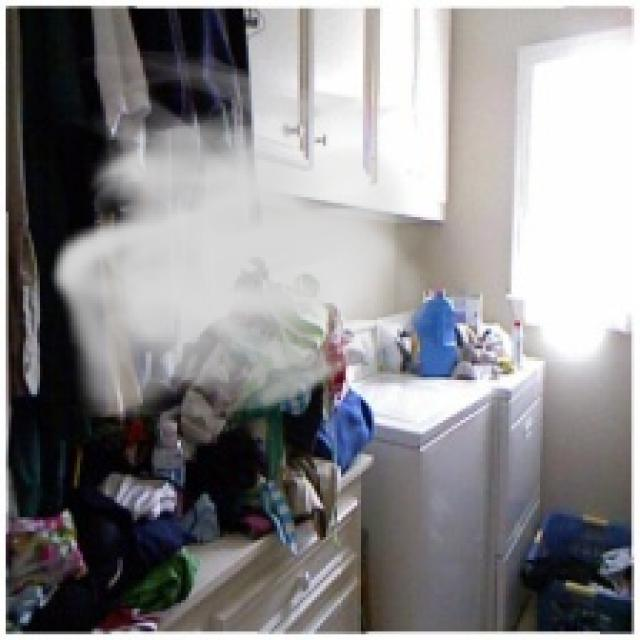smoke: (49, 46, 440, 428)
